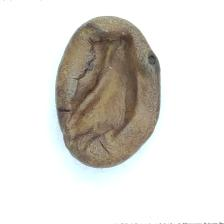NG: (78, 30, 146, 147)
